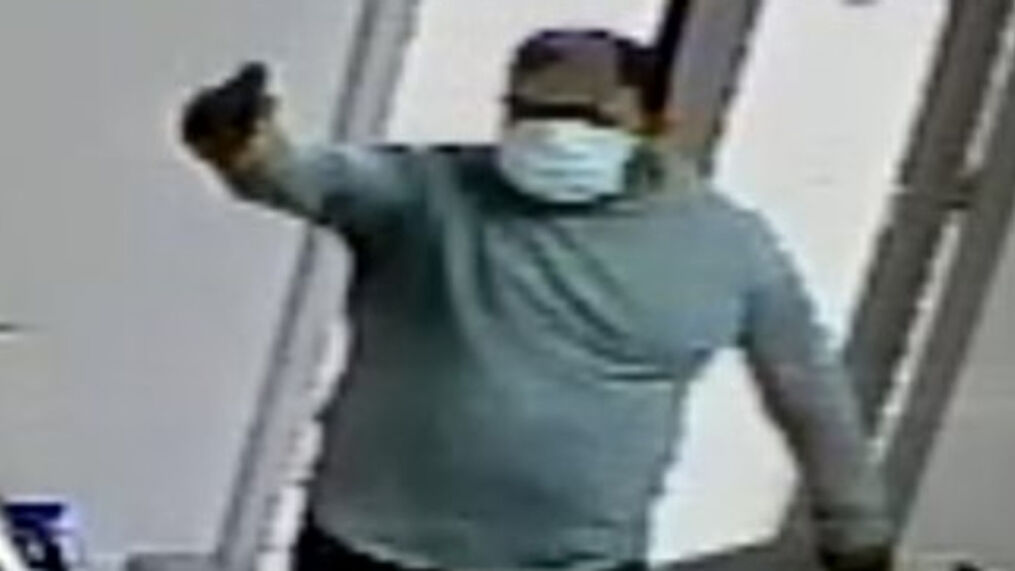gun: (170, 53, 292, 213)
